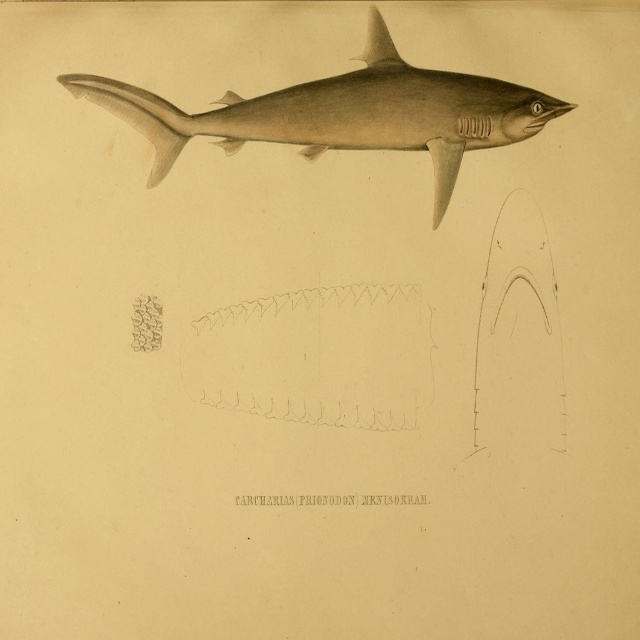Shark: (53, 3, 577, 229)
